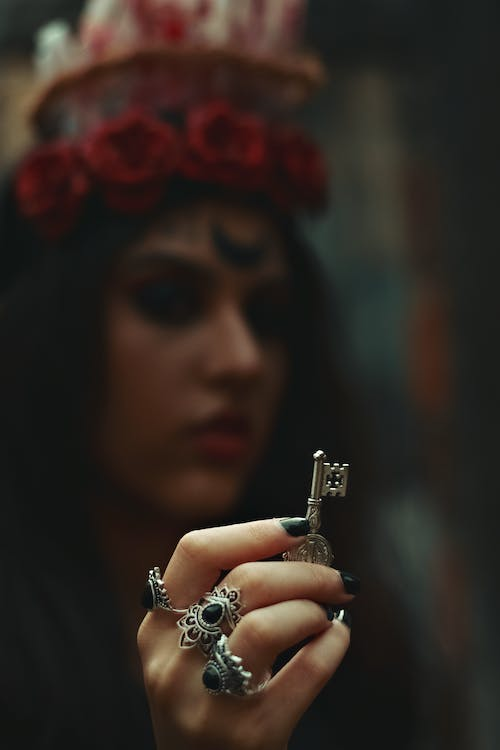key: (281, 450, 352, 588)
